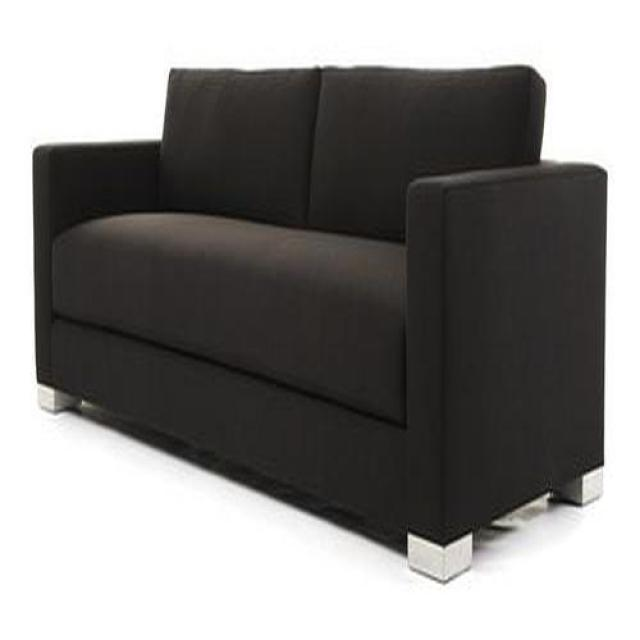sofa: (31, 65, 609, 586)
